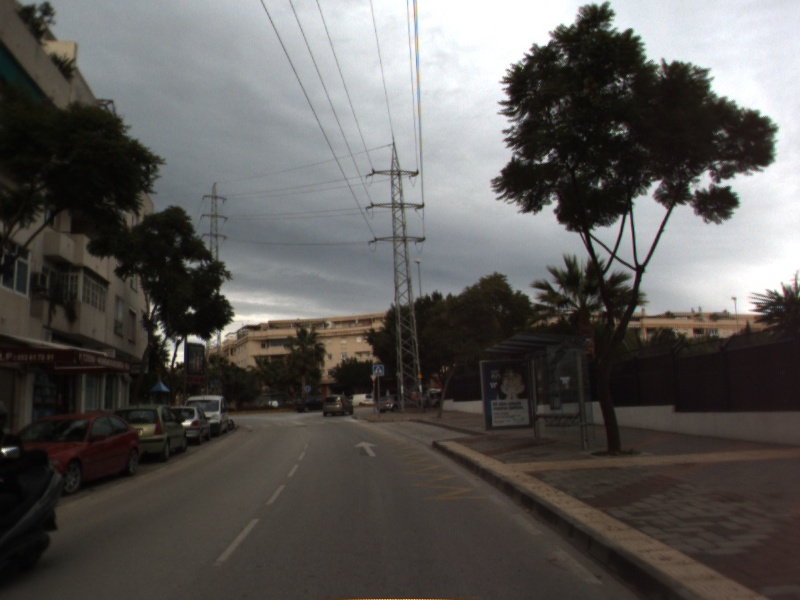STRAIGHT: (352, 439, 381, 458)
